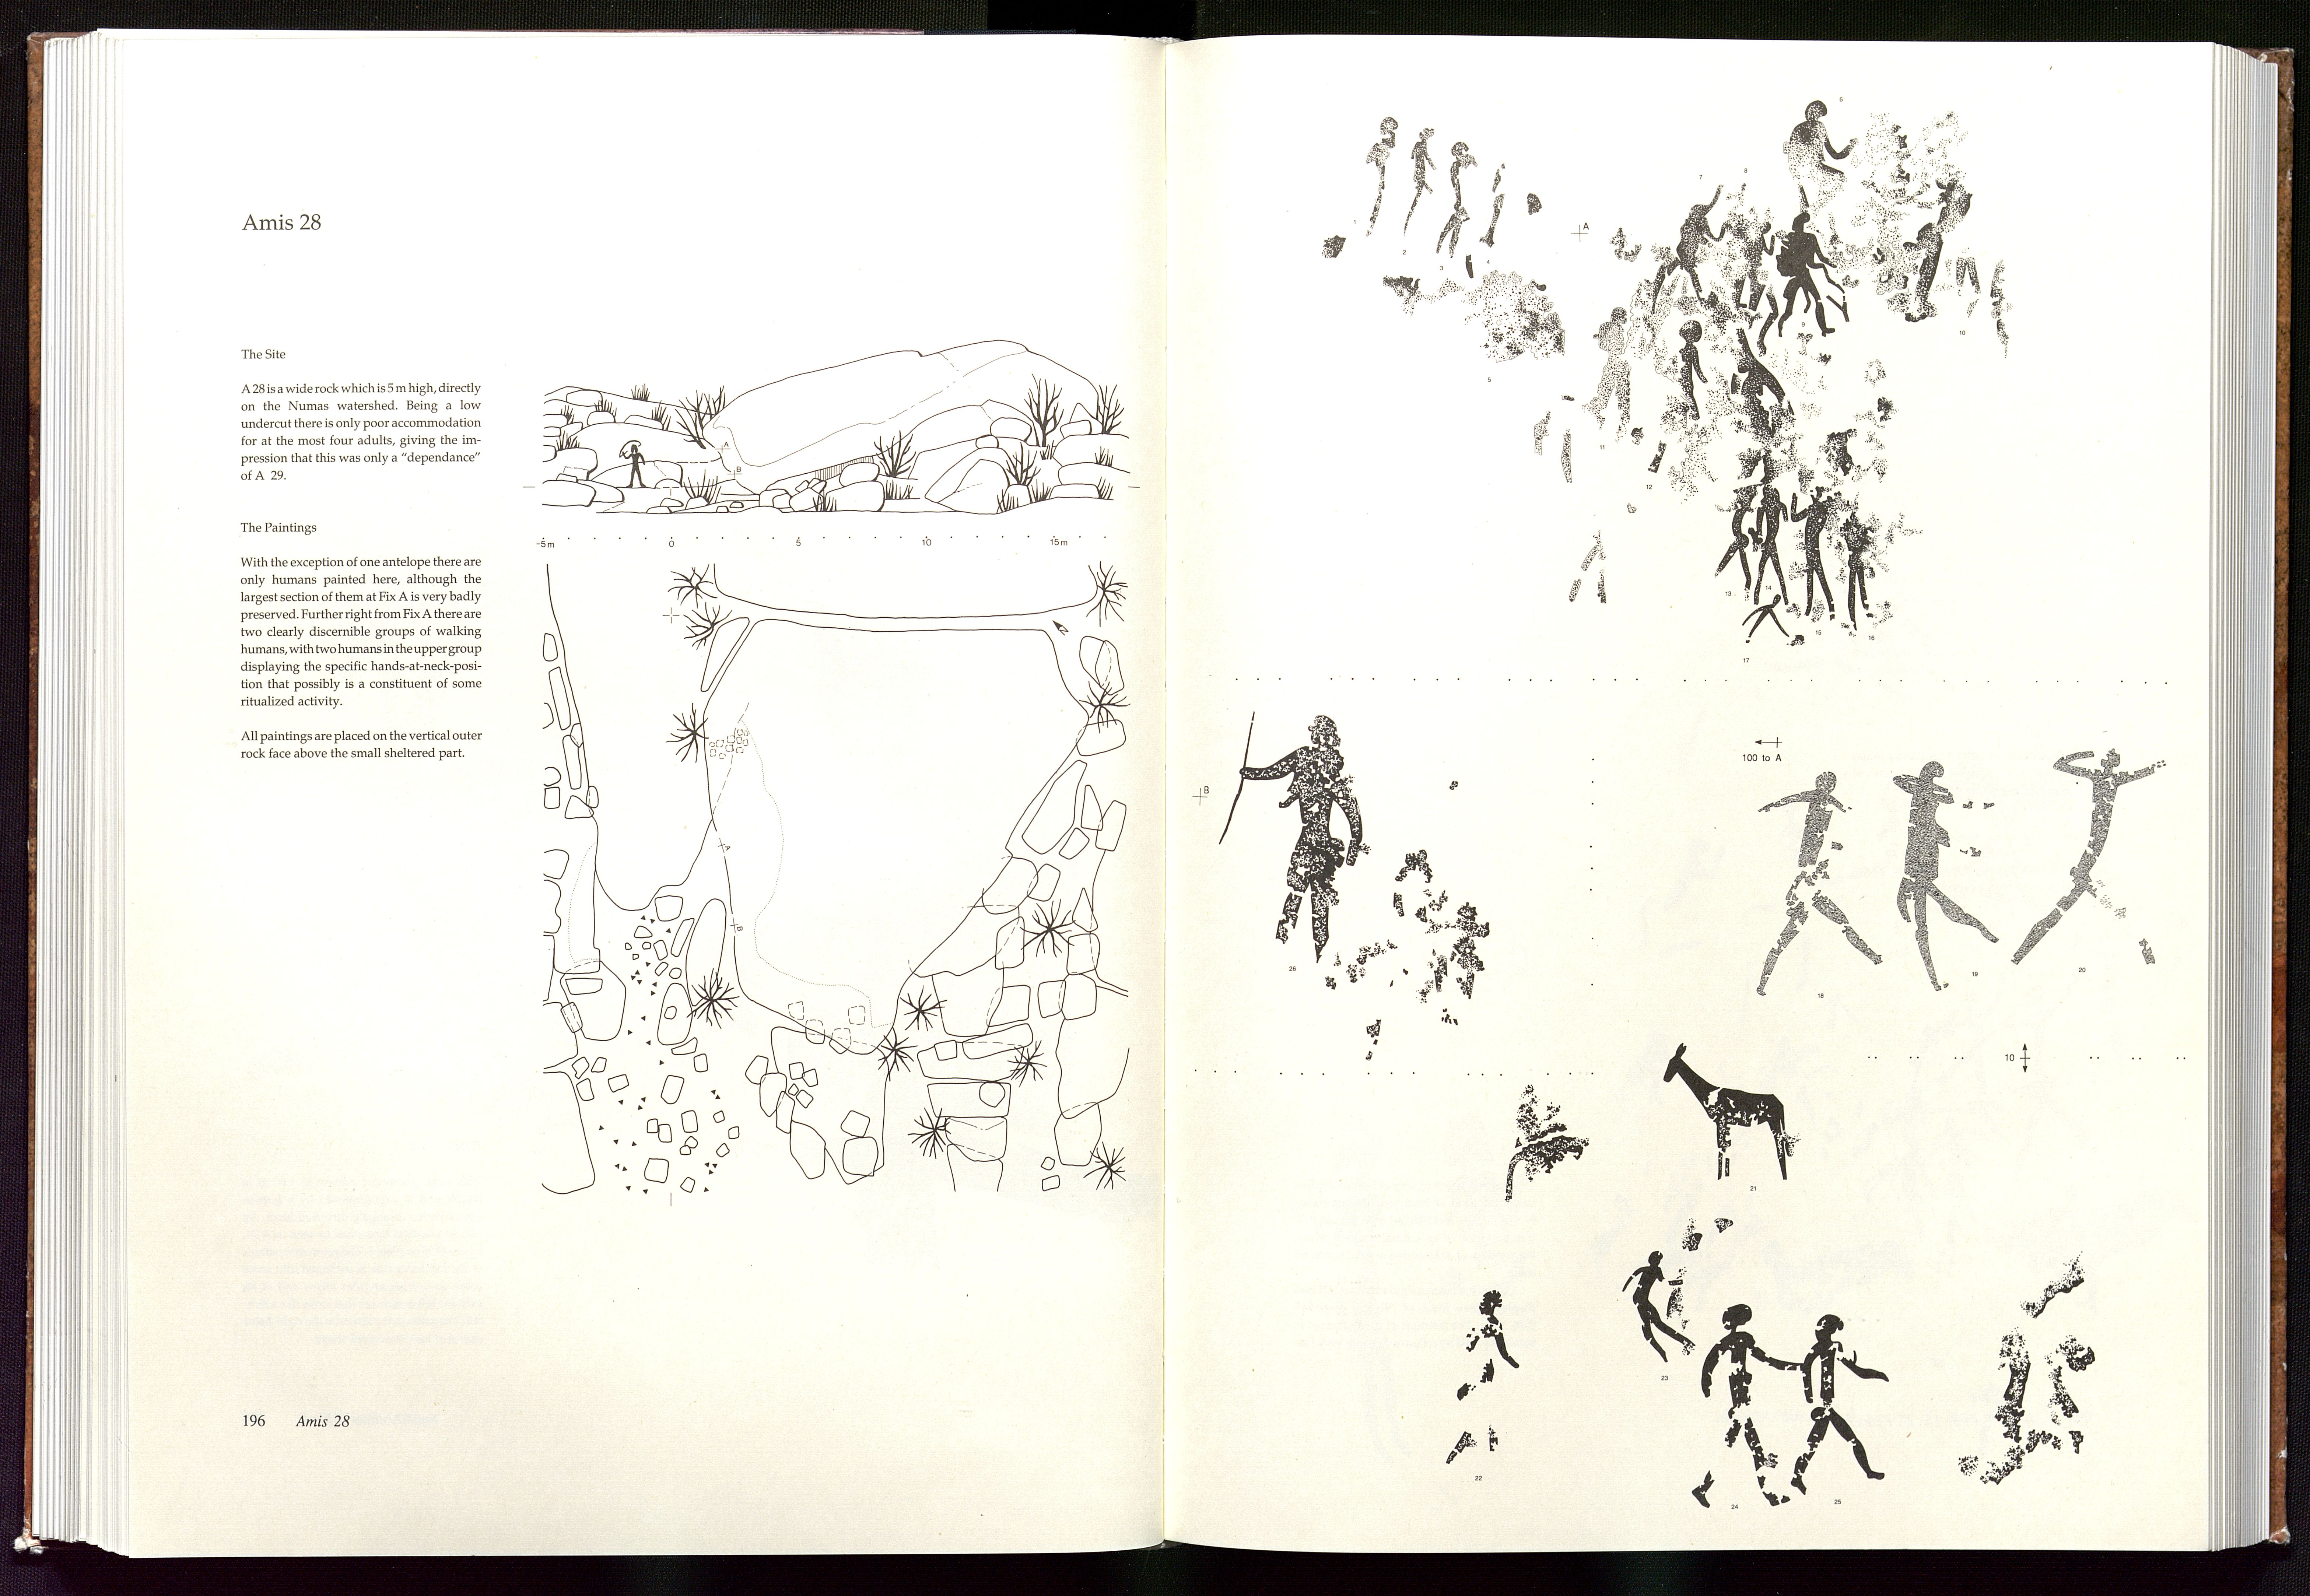animal: (1659, 1040, 1804, 1185)
human: (1225, 703, 1367, 996), (2008, 745, 2168, 981), (1748, 765, 1883, 1005), (1897, 760, 1998, 996), (1694, 1292, 1799, 1516), (1787, 1310, 1890, 1491), (1767, 94, 1861, 291), (1443, 1285, 1527, 1467), (1652, 320, 1716, 482), (1767, 210, 1841, 342), (1620, 1248, 1704, 1364), (1598, 303, 1647, 467), (1357, 99, 1404, 249), (1711, 480, 1755, 607), (1399, 129, 1438, 249)
